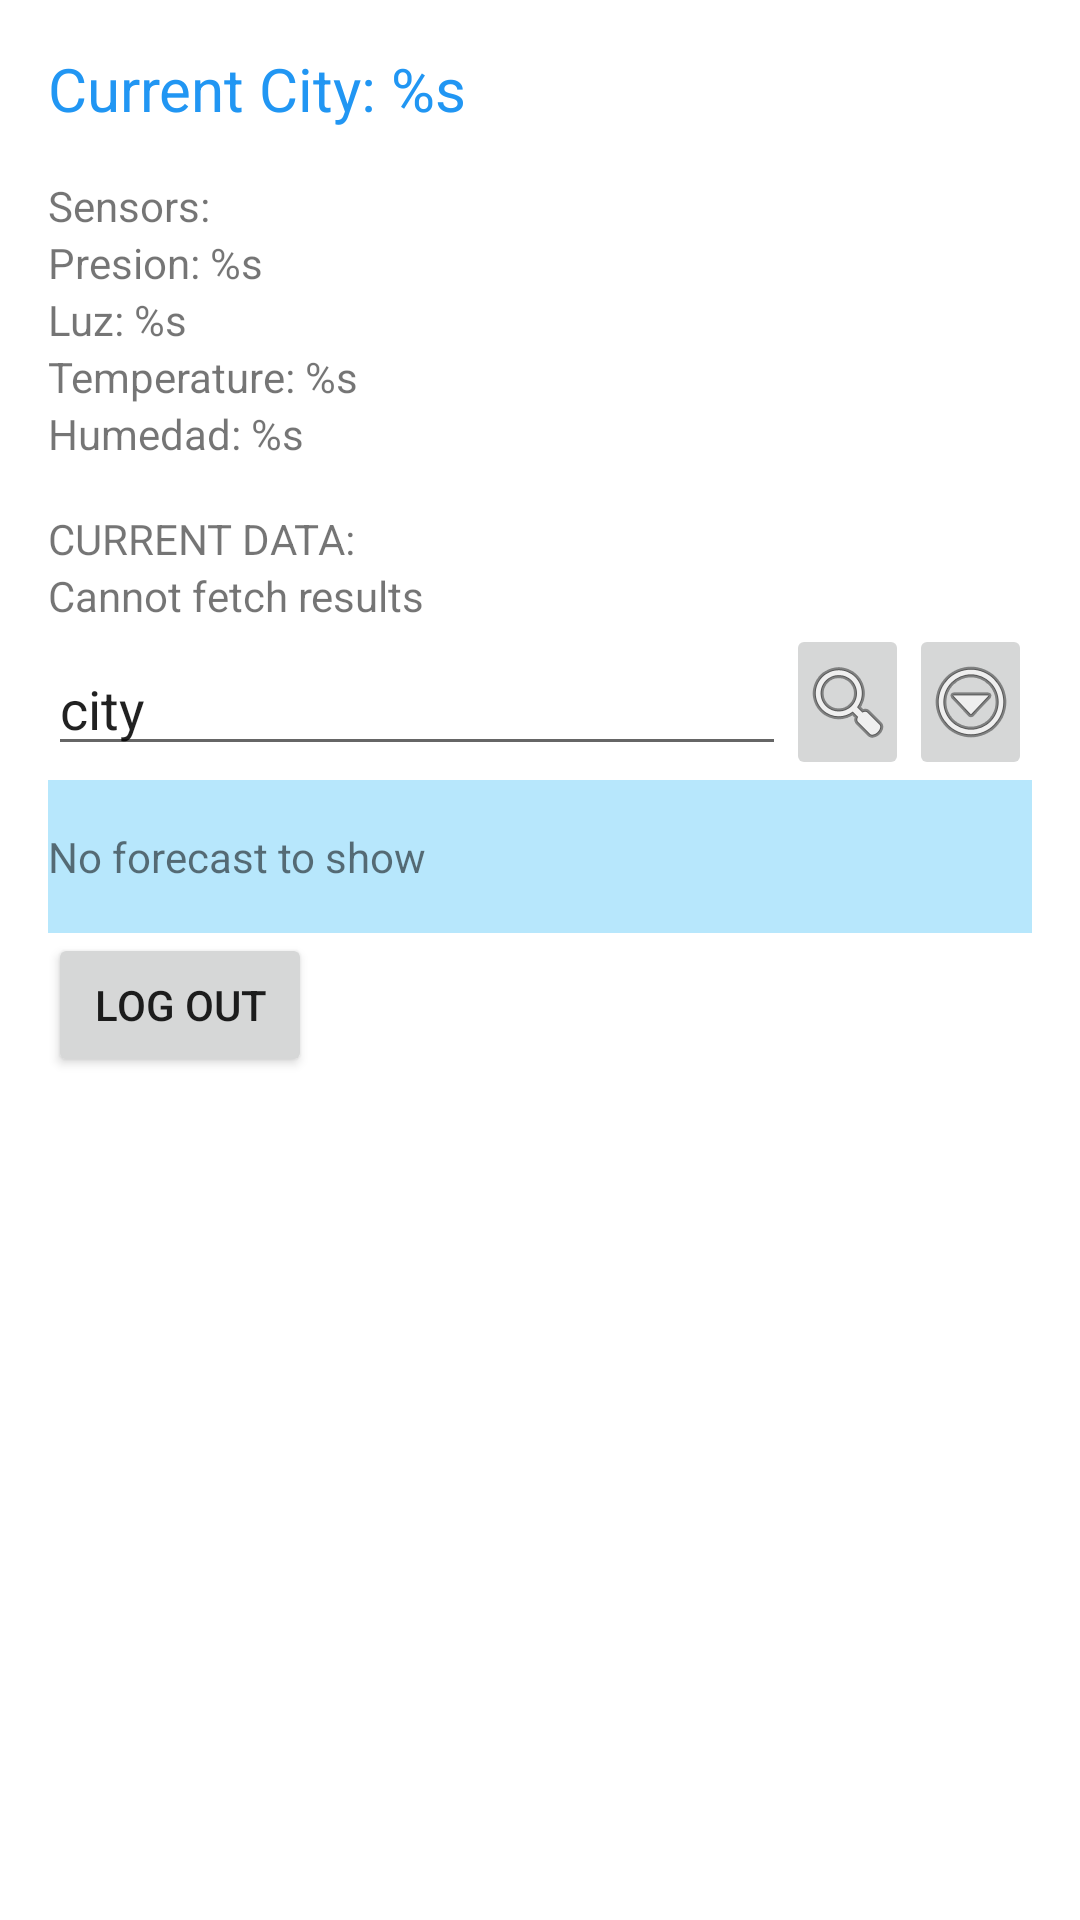

Point at icon controls on the screen. Image size 1080×1920, points as (x=x, y=y).
search: (x=847, y=702)
